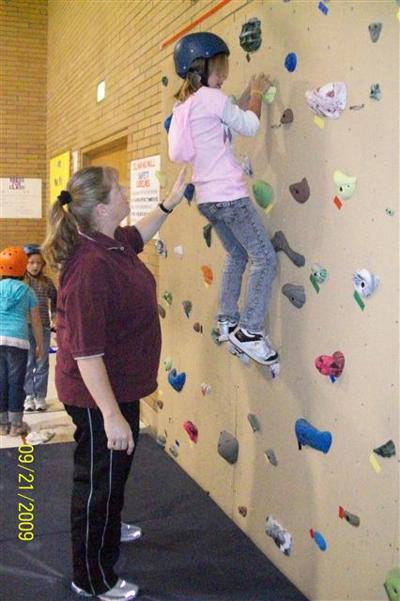person: (167, 31, 282, 365)
